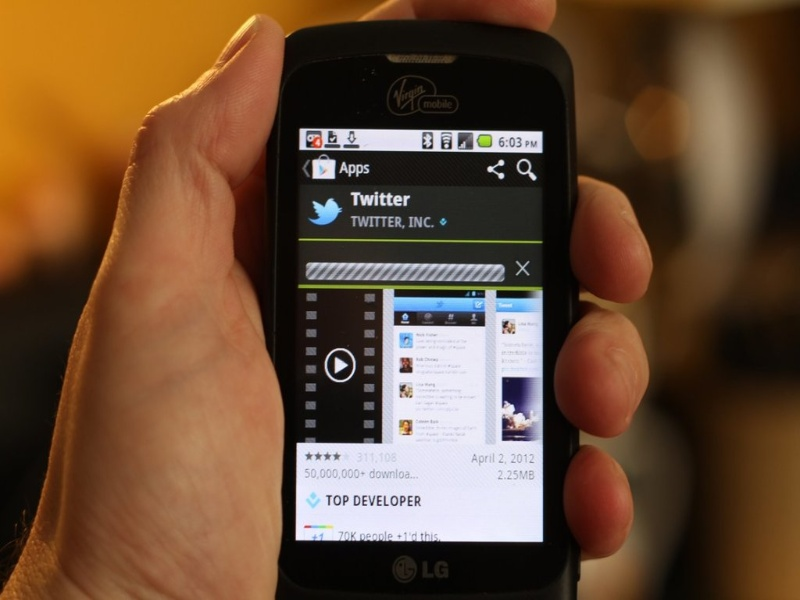cellphone: (273, 25, 571, 596)
